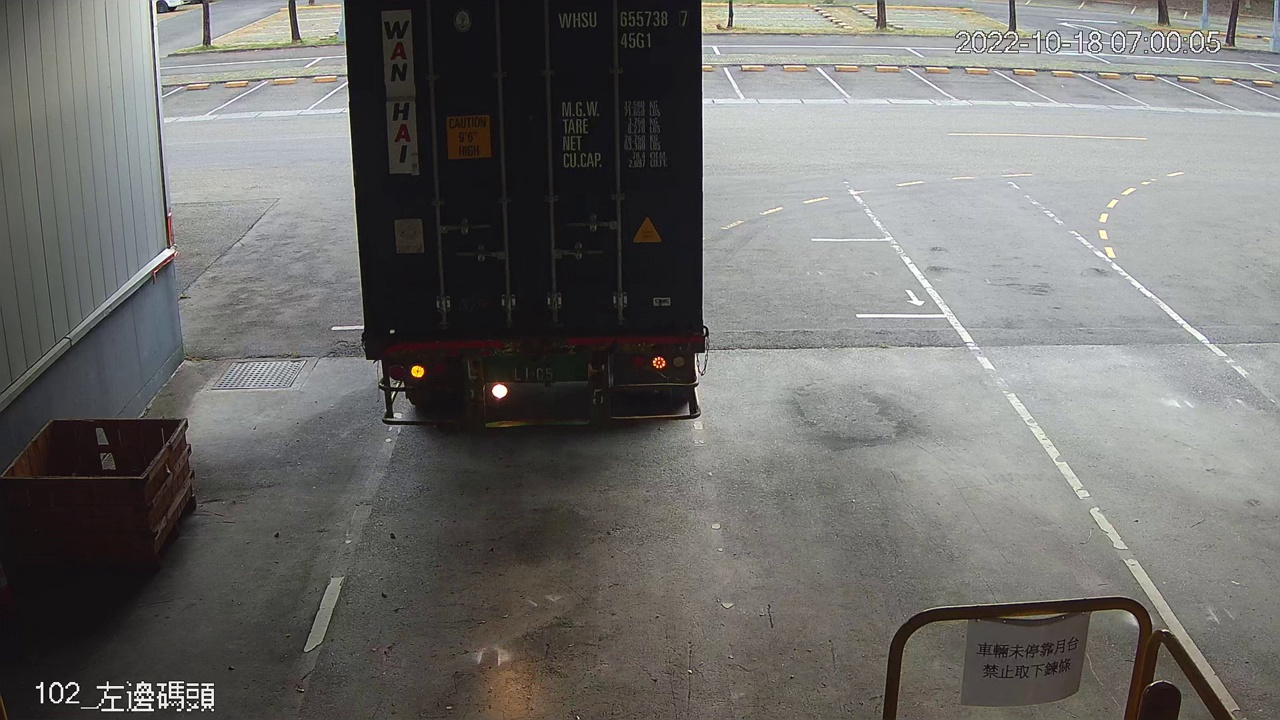container: (554, 5, 693, 55)
